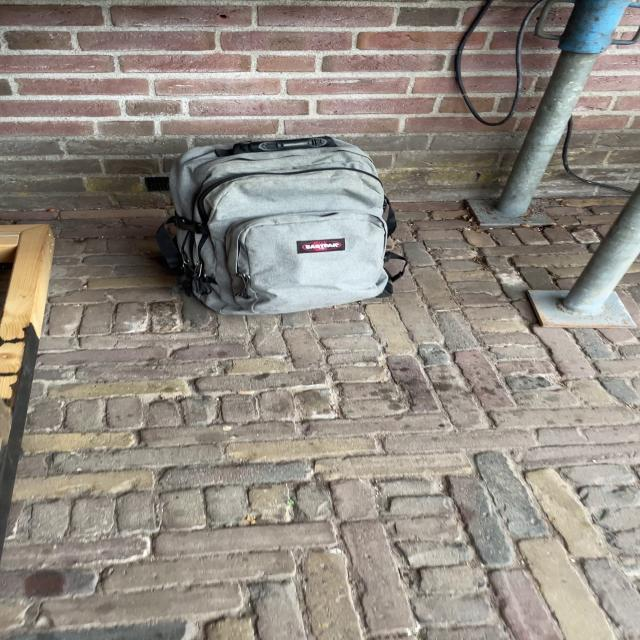backpack: (145, 128, 408, 320)
